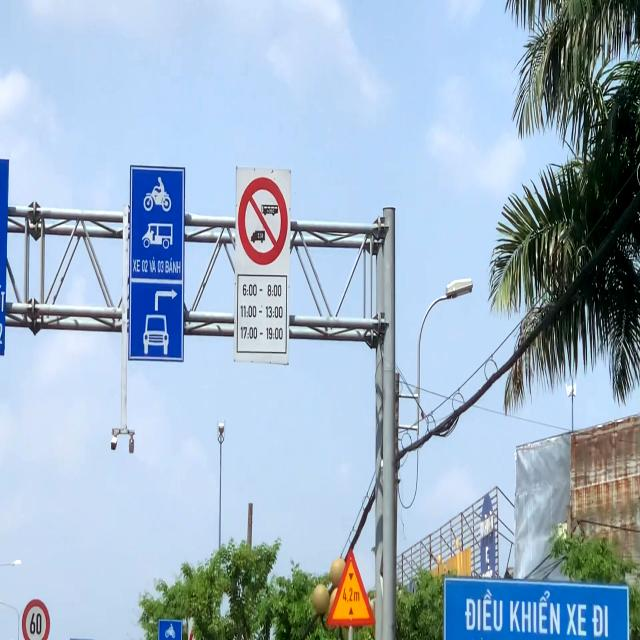P.127: (22, 598, 50, 640)
S.509a: (327, 548, 375, 627)
